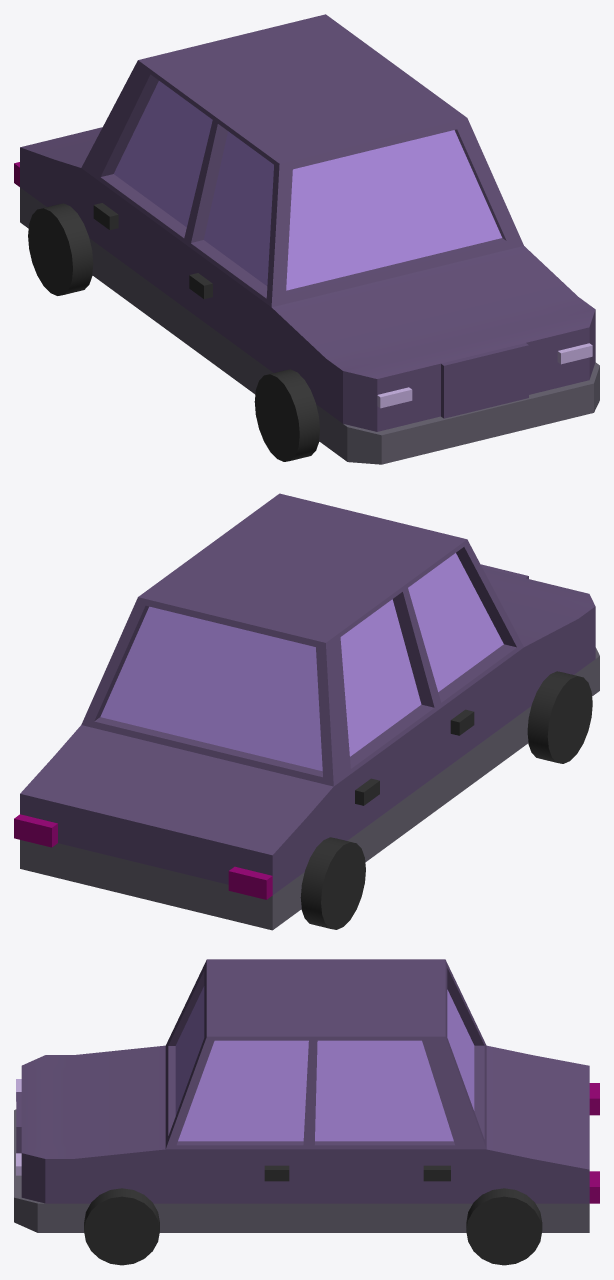
File: Default_Car.fbx
3 views of the same model, one above another, from view 1: azimuth 30°, elevation 25°; view 2: azimuth 150°, elevation 25°; view 3: azimuth 270°, elevation 25° (orthographic). The views are drawn at different scales.
Parts seen in each view (by area): view 1: Default_Car; view 2: Default_Car; view 3: Default_Car.
Boxes of the visible parts, left/top/right/bottom form: Default_Car: left=14, top=14, right=599, bottom=464; Default_Car: left=14, top=493, right=599, bottom=930; Default_Car: left=14, top=959, right=599, bottom=1265.
Bounding box in the file's own units: 2.41 × 1.93 × 4.95.
